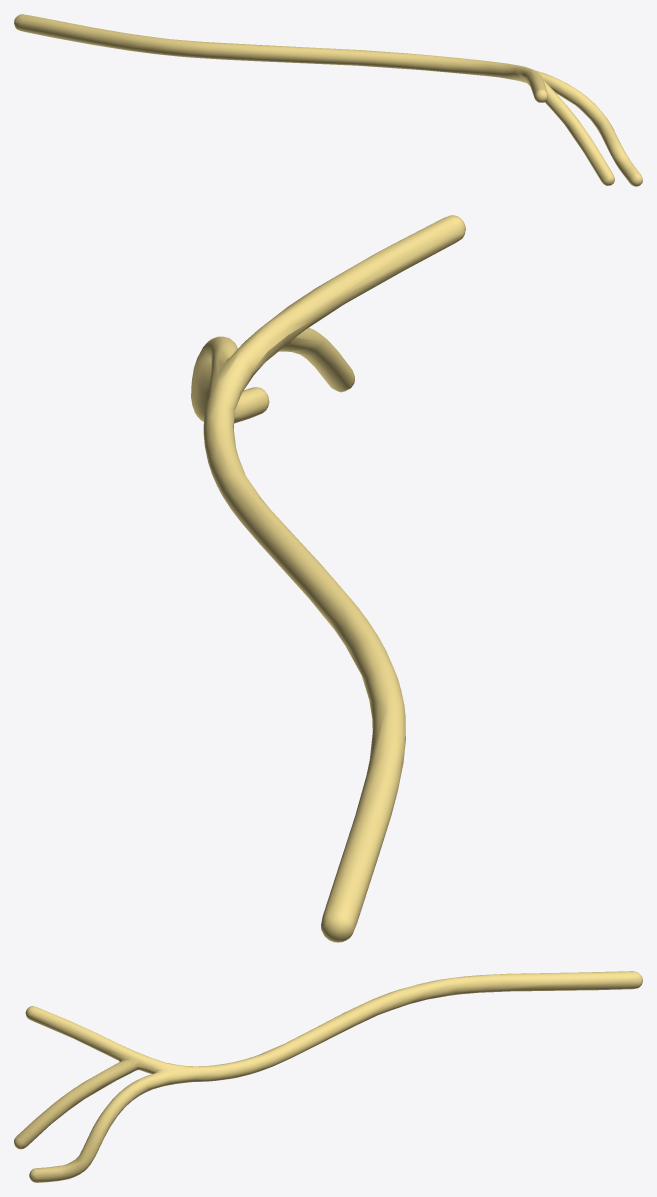
File: fma52630_fj1300.glb
3 renders of one model, top to bottom at view 1: azimuth 30°, elevation 25°; view 2: azimuth 150°, elevation 25°; view 3: azimuth 270°, elevation 25°, orthographic. The views are drawn at different scales.
Parts seen in each view (by area): view 1: FMA52630_FJ1300; view 2: FMA52630_FJ1300; view 3: FMA52630_FJ1300.
Boxes of the visible parts, x1,y1,x2,y2 form: FMA52630_FJ1300: (14, 14, 642, 186); FMA52630_FJ1300: (191, 215, 465, 942); FMA52630_FJ1300: (14, 971, 642, 1182).
Bounding box in the file's own units: 0.0233 × 0.00784 × 0.0355.
